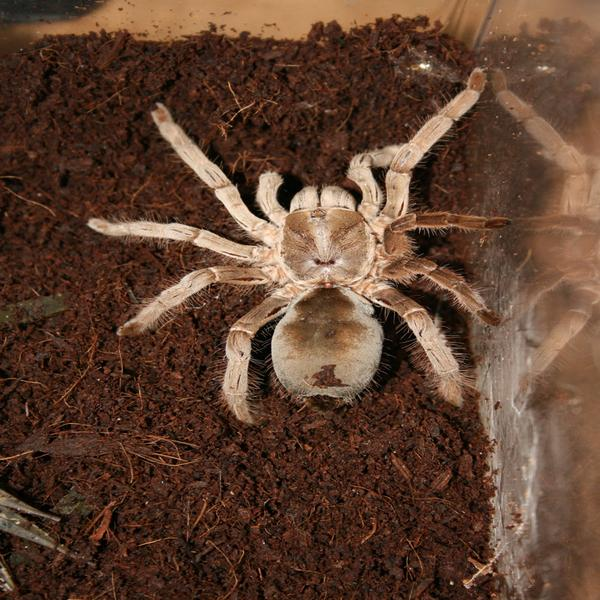Tarantula Spider: (114, 82, 521, 407)
